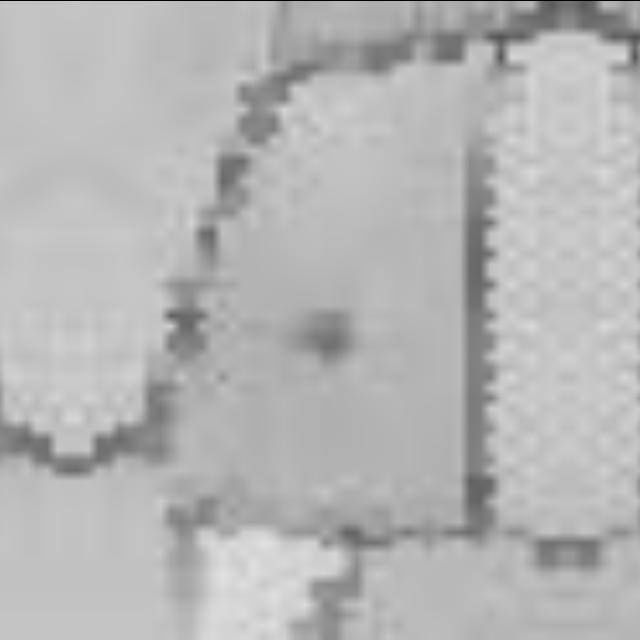good_void: (294, 307, 359, 366)
